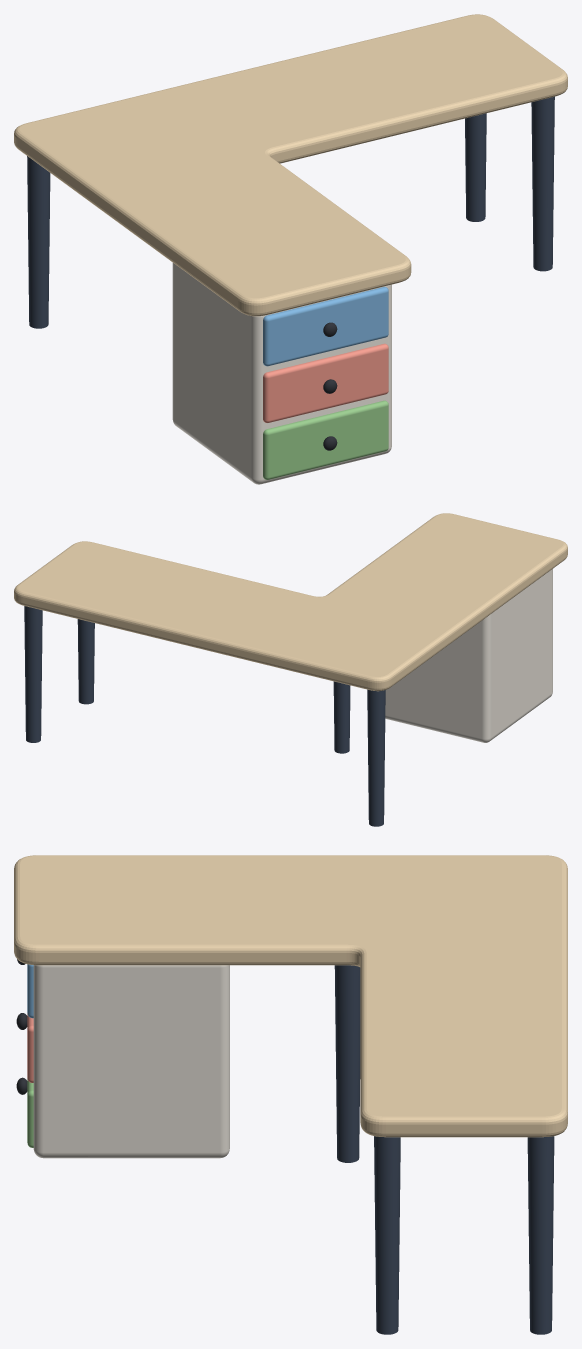
File: cartoon_desk.glb
3 renders of one model, top to bottom at view 1: azimuth 30°, elevation 25°; view 2: azimuth 150°, elevation 25°; view 3: azimuth 270°, elevation 25°, orthographic. The views are drawn at different scales.
Parts seen in each view (by area): view 1: DeskTop, DeskCabinet, Drawer1, Drawer3, Drawer2, DeskLeg3, DeskLeg1, DeskLeg2; view 2: DeskTop, DeskCabinet, DeskLeg1, DeskLeg2, DeskLeg3, DeskLeg4; view 3: DeskTop, DeskCabinet, DeskLeg2, DeskLeg3, DeskLeg4.
Part boxes in pixels (left/top/right/bottom): DeskTop: left=14, top=14, right=567, bottom=316; DeskCabinet: left=172, top=263, right=391, bottom=484; Drawer1: left=263, top=286, right=388, bottom=366; Drawer3: left=263, top=400, right=388, bottom=479; Drawer2: left=263, top=343, right=388, bottom=422; DeskLeg3: left=531, top=96, right=554, bottom=271; DeskLeg1: left=27, top=156, right=50, bottom=328; DeskLeg2: left=465, top=113, right=486, bottom=221; DeskTop: left=14, top=513, right=567, bottom=691; DeskCabinet: left=385, top=569, right=552, bottom=742; DeskLeg1: left=367, top=689, right=385, bottom=826; DeskLeg2: left=24, top=606, right=42, bottom=742; DeskLeg3: left=77, top=619, right=94, bottom=704; DeskLeg4: left=333, top=681, right=350, bottom=753; DeskTop: left=14, top=855, right=567, bottom=1137; DeskCabinet: left=33, top=965, right=229, bottom=1158; DeskLeg2: left=527, top=1136, right=554, bottom=1334; DeskLeg3: left=374, top=1136, right=400, bottom=1334; DeskLeg4: left=334, top=965, right=360, bottom=1162.
Size of the model in its own units: 2.57 by 1 by 2.26.
